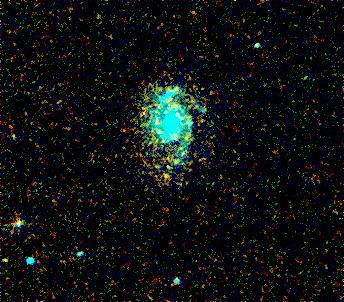star: (0, 246, 18, 276)
